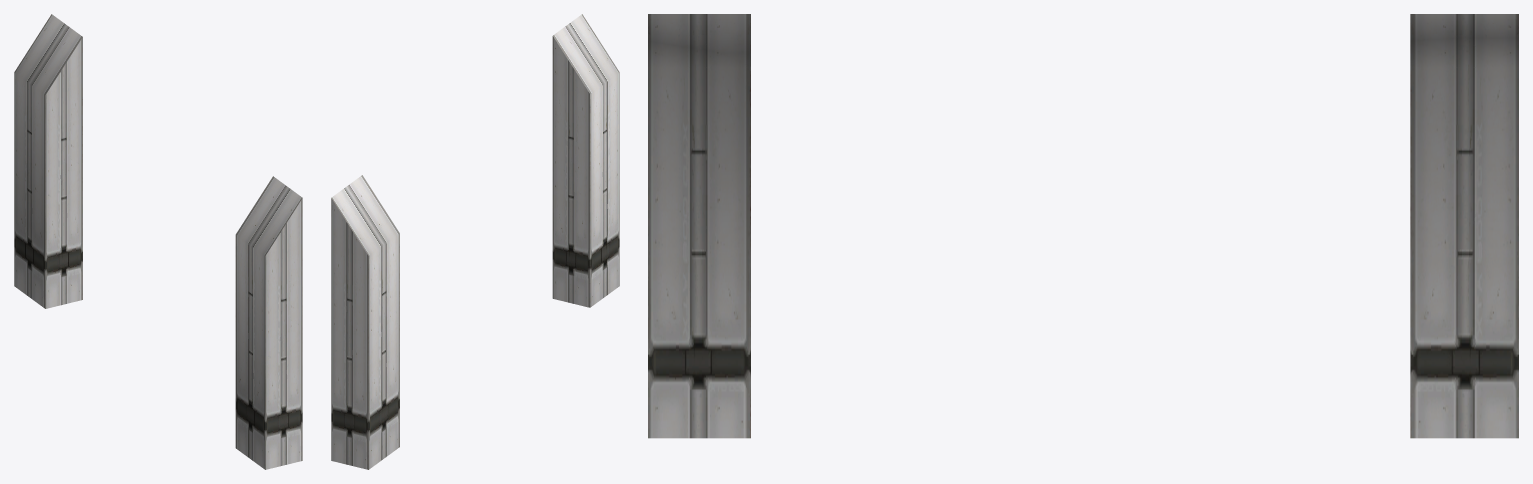
The model's file is STA20_elevblocks.FBX.
The picture shows the model from 3 angles, left to right: view 1: azimuth 30°, elevation 25°; view 2: azimuth 150°, elevation 25°; view 3: azimuth 270°, elevation 25°; orthographic projection. The views are drawn at different scales.
Visible parts, largest first — view 1: STA20_elevblocks; view 2: STA20_elevblocks; view 3: STA20_elevblocks.
Part boxes in pixels (bbox=[...]): STA20_elevblocks: bbox=[14, 14, 302, 469]; STA20_elevblocks: bbox=[331, 14, 619, 469]; STA20_elevblocks: bbox=[648, 14, 1518, 438].
Bounding box in the file's own units: 0.341 × 2.29 × 3.96.
